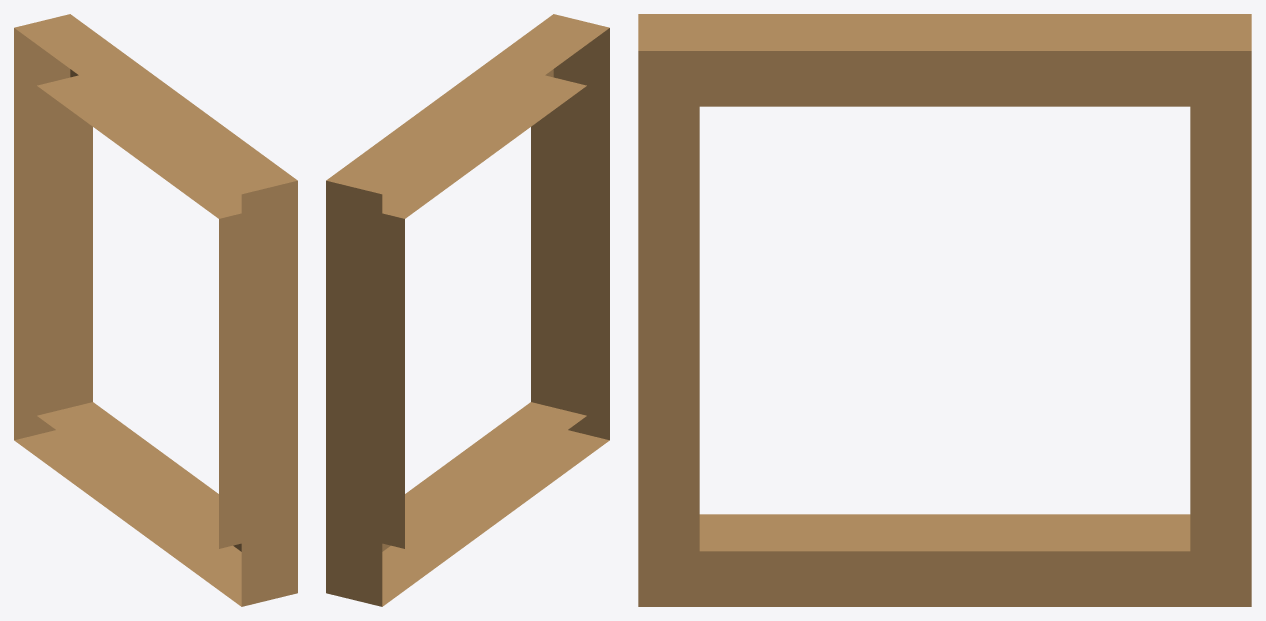
Rendered from Painting 1.fbx.
The picture shows the model from 3 angles, left to right: view 1: azimuth 30°, elevation 25°; view 2: azimuth 150°, elevation 25°; view 3: azimuth 270°, elevation 25°; orthographic projection. The views are drawn at different scales.
Parts seen in each view (by area): view 1: painting 1; view 2: painting 1; view 3: painting 1.
Part boxes in pixels (box(x1,y1,x2,y2)): painting 1: box(14, 14, 297, 606); painting 1: box(326, 14, 609, 606); painting 1: box(638, 14, 1251, 606).
Bounding box in the file's own units: 10 × 70 × 70.
